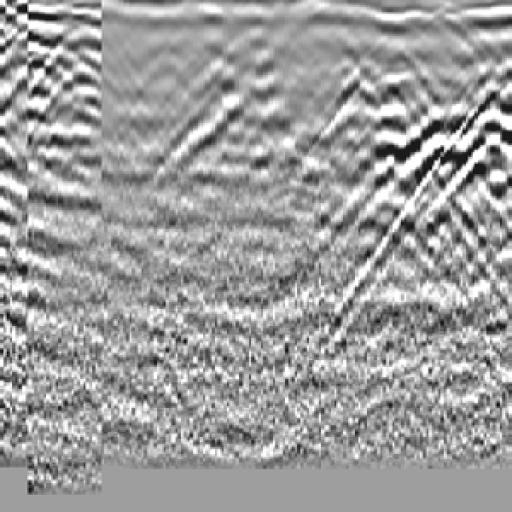non-metallic: (349, 33, 512, 257), (146, 34, 322, 210)
